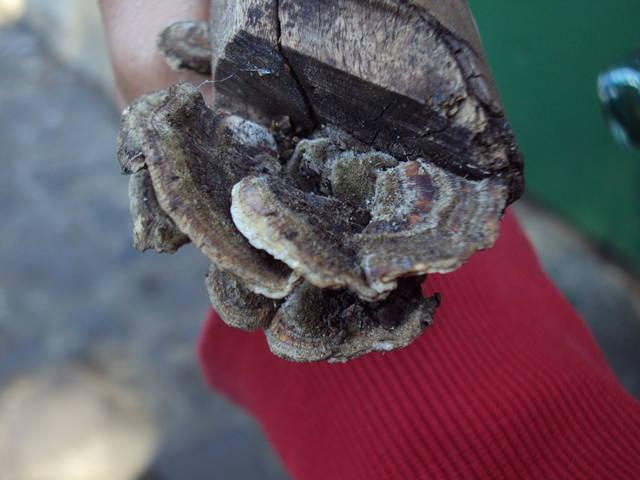poisonous_mushroom: (114, 0, 527, 365)
